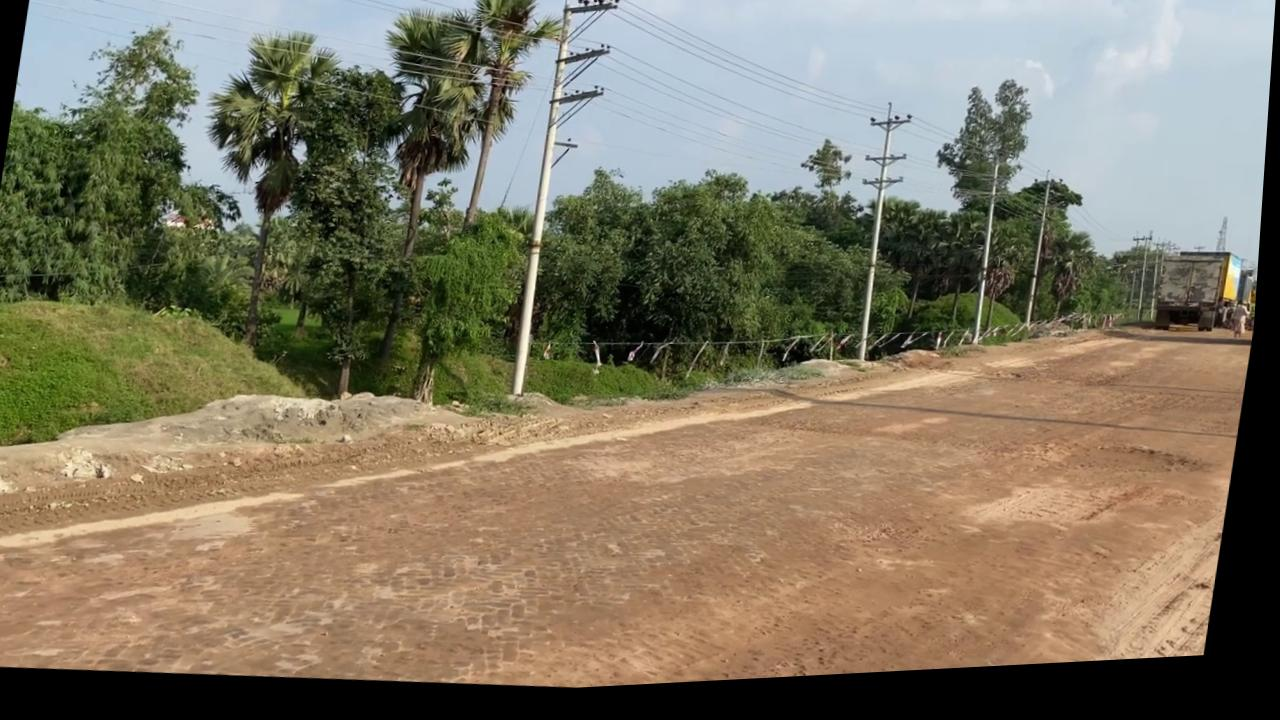Muddy road: (0, 226, 1263, 720)
Pole: (508, 0, 586, 404), (971, 165, 1010, 355), (1027, 183, 1058, 341)
Traffic-sign: (335, 4, 503, 387), (174, 23, 348, 358)
Tree: (1154, 257, 1253, 350), (1235, 280, 1263, 345)
